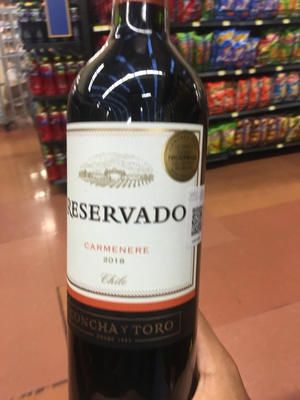reservado carmenere: (65, 10, 203, 400)
